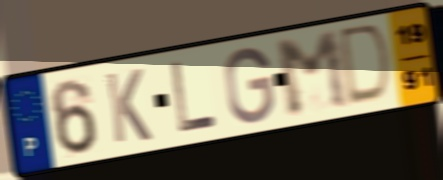6: (48, 77, 99, 156)
D: (339, 21, 395, 110)
G: (223, 45, 277, 127)
K: (103, 66, 155, 147)
L: (168, 59, 220, 135)
M: (271, 27, 354, 121)
